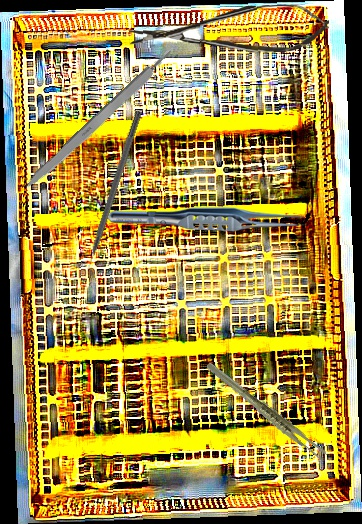Hook Surgical: (79, 109, 144, 282)
Micro Scissor: (128, 4, 330, 55)
Scalpel Handle: (21, 47, 177, 195)
Tissue Forceps: (204, 343, 330, 479), (108, 206, 308, 232)
